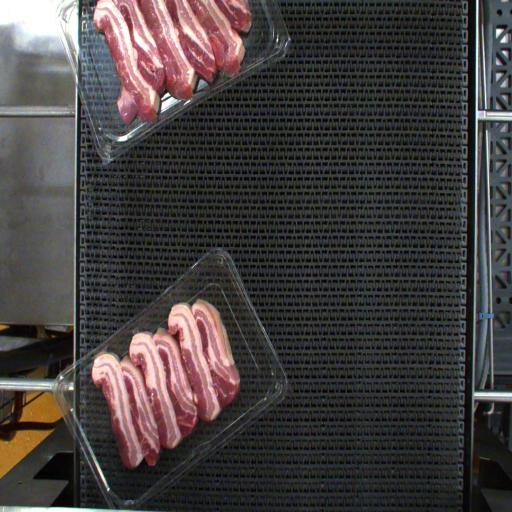packaging-error: (90, 344, 111, 359), (128, 327, 141, 336)
